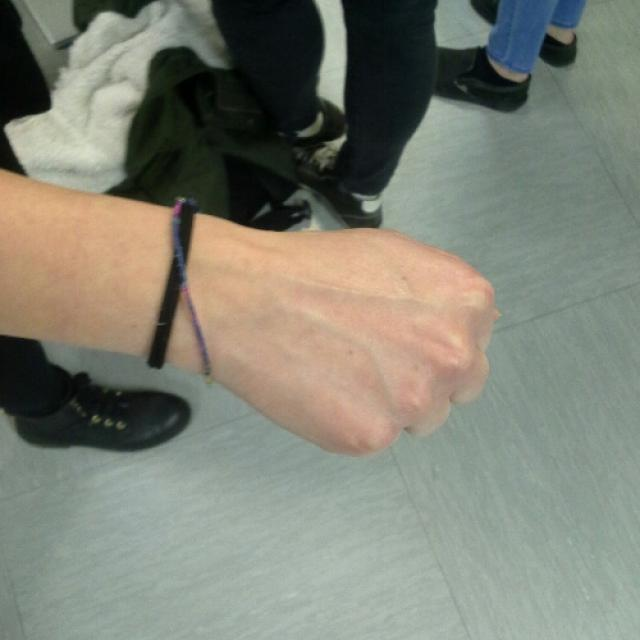rock: (268, 229, 497, 462)
